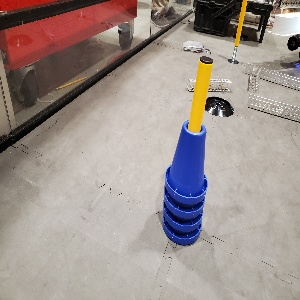Blue_4: (162, 118, 207, 245)
